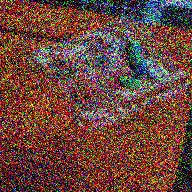러키펜정: (148, 66, 166, 79)
씨엠지세파클러캡슐: (133, 58, 156, 80)
에르도캡슐: (127, 40, 144, 67)
휴티렌정: (118, 76, 142, 91)
